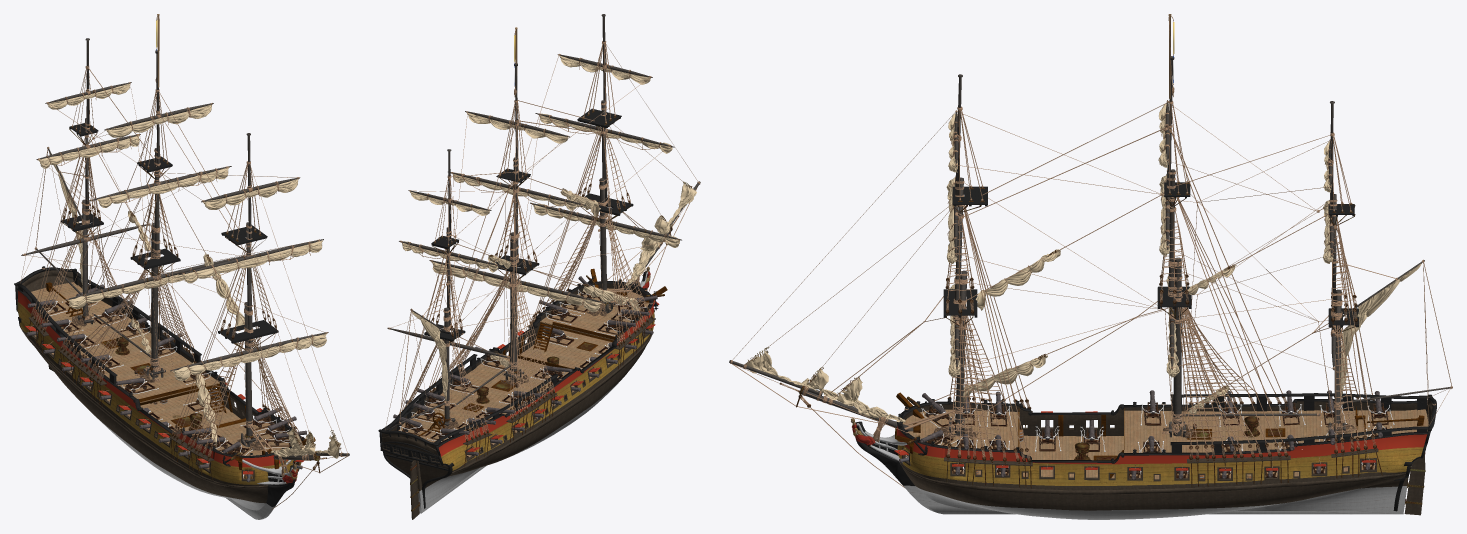
Rendered from Ship.fbx.
3 views of the same model, side by side, from view 1: azimuth 30°, elevation 25°; view 2: azimuth 150°, elevation 25°; view 3: azimuth 270°, elevation 25° (orthographic). The views are drawn at different scales.
Visible parts, largest first — view 1: Object_27, Object_39, Object_21, Object_38, Object_22, Object_35, Object_33, Object_36, Object_24, Object_19, Object_34, Object_8 (+8 smaller); view 2: Object_27, Object_39, Object_38, Object_21, Object_22, Object_35, Object_36, Object_24, Object_34, Object_8, Object_19, Object_33 (+9 smaller); view 3: Object_27, Object_38, Object_21, Object_22, Object_39, Object_24, Object_25, Object_35, Object_23, Object_19, Object_11, Object_8 (+7 smaller).
Boxes of the visible parts, x1,y1,x2,y2 form: Object_27: [20, 16, 348, 509]; Object_39: [21, 38, 349, 460]; Object_21: [31, 14, 288, 478]; Object_38: [21, 270, 301, 503]; Object_22: [14, 123, 301, 506]; Object_35: [38, 85, 340, 458]; Object_33: [172, 179, 326, 381]; Object_36: [47, 83, 237, 308]; Object_24: [17, 302, 301, 484]; Object_19: [28, 84, 325, 480]; Object_34: [39, 136, 326, 380]; Object_8: [26, 284, 306, 468]; Object_27: [385, 29, 700, 448]; Object_39: [387, 14, 700, 426]; Object_38: [382, 283, 655, 519]; Object_21: [398, 27, 649, 456]; Object_22: [378, 108, 653, 508]; Object_35: [402, 182, 696, 395]; Object_36: [410, 112, 599, 311]; Object_24: [441, 311, 654, 470]; Object_34: [402, 204, 679, 400]; Object_8: [393, 276, 657, 456]; Object_19: [399, 56, 678, 511]; Object_33: [531, 55, 679, 247]; Object_27: [730, 16, 1452, 502]; Object_38: [900, 399, 1432, 515]; Object_21: [902, 14, 1428, 479]; Object_22: [855, 182, 1436, 511]; Object_39: [729, 56, 1452, 437]; Object_24: [896, 435, 1423, 485]; Object_25: [856, 423, 1407, 519]; Object_35: [745, 142, 1420, 422]; Object_23: [894, 411, 1427, 471]; Object_19: [796, 105, 1425, 504]; Object_11: [925, 402, 1388, 478]; Object_8: [920, 390, 1382, 479].
Bounding box in the file's own units: 1853 × 4213 × 5523.
